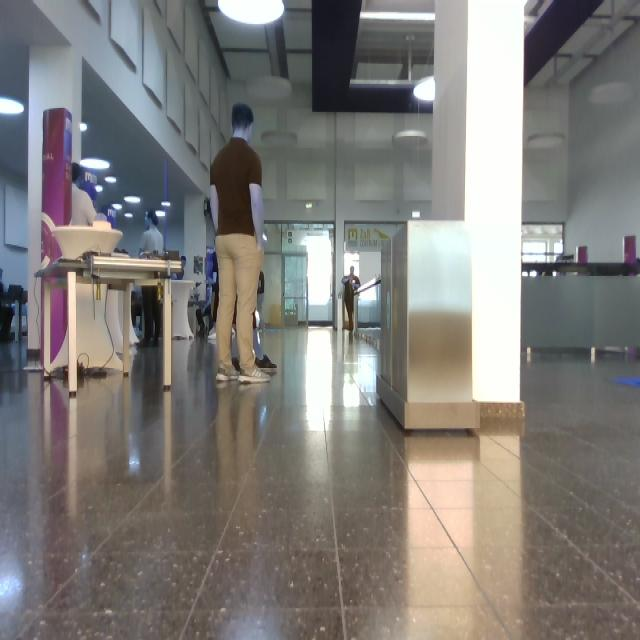door: (262, 222, 334, 326)
light bulb: (218, 1, 283, 25), (361, 12, 435, 21), (416, 77, 435, 101), (1, 98, 24, 116), (80, 160, 109, 170), (125, 196, 141, 202), (81, 122, 88, 132), (105, 177, 115, 184), (264, 232, 268, 241)
person: (211, 104, 269, 382), (342, 268, 360, 332), (142, 288, 161, 346), (140, 212, 163, 256)
pillar: (434, 1, 525, 434), (28, 48, 81, 350)
table: (36, 256, 184, 394), (76, 277, 120, 370), (52, 222, 122, 260)
tiled floor: (1, 329, 640, 640)
trash bin: (380, 222, 478, 429)
